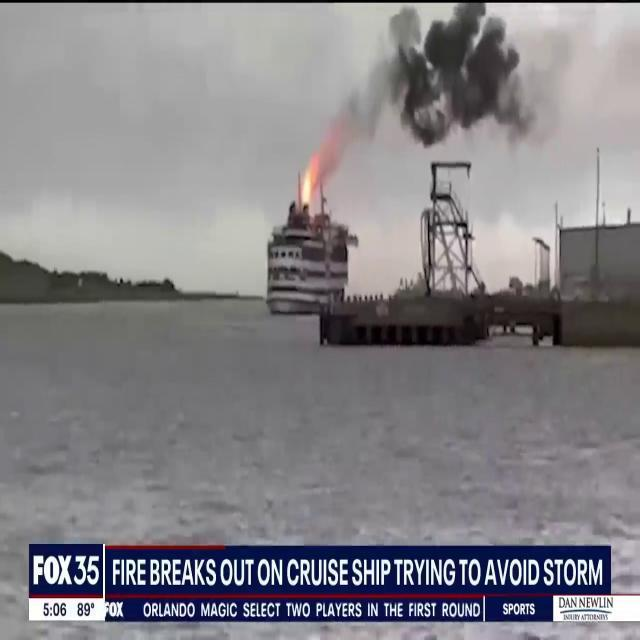Fire: (295, 149, 325, 220)
Smoke: (340, 3, 640, 165)
